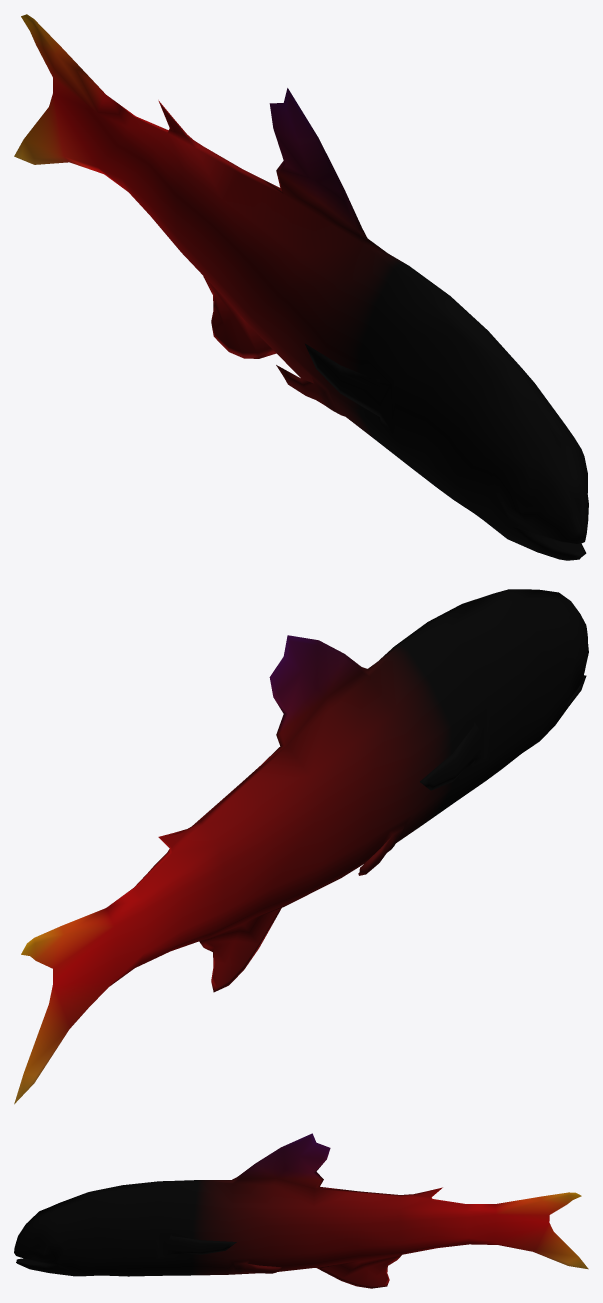
3 views of the same model, one above another, from view 1: azimuth 30°, elevation 25°; view 2: azimuth 150°, elevation 25°; view 3: azimuth 270°, elevation 25° (orthographic). The views are drawn at different scales.
Parts seen in each view (by area): view 1: myctophids_final; view 2: myctophids_final; view 3: myctophids_final.
Boxes of the visible parts, <box> form: myctophids_final: <box>14,14,588,560</box>; myctophids_final: <box>14,589,588,1104</box>; myctophids_final: <box>14,1133,588,1288</box>.
Size of the model in its own units: 0.0153 by 0.0386 by 0.1295.
